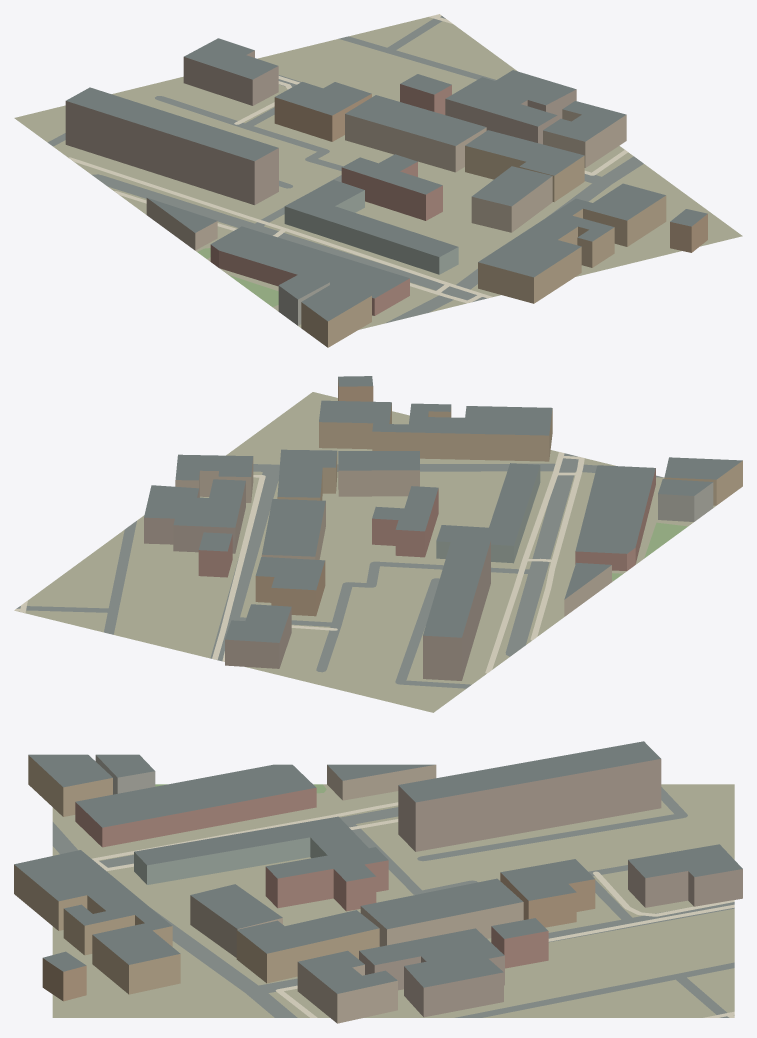
Rendered from sector--4_-2.glb.
3 renders of one model, top to bottom at view 1: azimuth 30°, elevation 25°; view 2: azimuth 150°, elevation 25°; view 3: azimuth 270°, elevation 25°, orthographic. The views are drawn at different scales.
Visible parts, largest first — view 1: -4:-2-facade, -4:-2-roof, -4:-2-ground, -4:-2-road, -4:-2-paving, -4:-2-park; view 2: -4:-2-ground, -4:-2-roof, -4:-2-facade, -4:-2-road, -4:-2-paving, -4:-2-park; view 3: -4:-2-facade, -4:-2-ground, -4:-2-roof, -4:-2-road, -4:-2-paving.
Part boxes in pixels (left/top/right/bottom): -4:-2-facade: left=65, top=50, right=707, bottom=347; -4:-2-roof: left=66, top=38, right=707, bottom=321; -4:-2-ground: left=14, top=15, right=742, bottom=329; -4:-2-road: left=48, top=16, right=643, bottom=323; -4:-2-paving: left=68, top=14, right=627, bottom=303; -4:-2-park: left=197, top=248, right=278, bottom=307; -4:-2-ground: left=18, top=392, right=715, bottom=712; -4:-2-roof: left=144, top=376, right=742, bottom=642; -4:-2-facade: left=144, top=379, right=742, bottom=680; -4:-2-road: left=16, top=453, right=663, bottom=688; -4:-2-paving: left=14, top=452, right=584, bottom=673; -4:-2-park: left=612, top=522, right=687, bottom=580; -4:-2-facade: left=14, top=755, right=742, bottom=1023; -4:-2-ground: left=52, top=784, right=734, bottom=1017; -4:-2-roof: left=14, top=741, right=742, bottom=993; -4:-2-road: left=52, top=787, right=734, bottom=1017; -4:-2-paving: left=92, top=802, right=734, bottom=1017.
Bounding box in the file's own units: 166 × 16 × 214.
